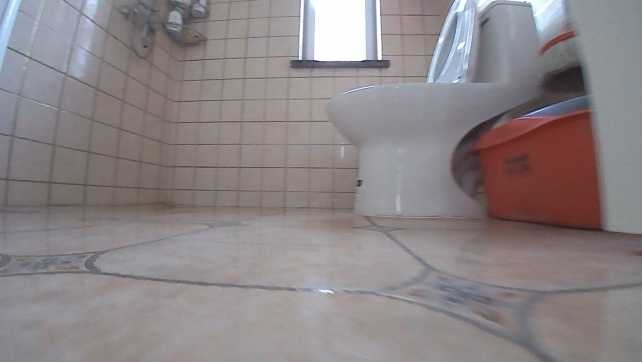toilet: (319, 1, 550, 220)
